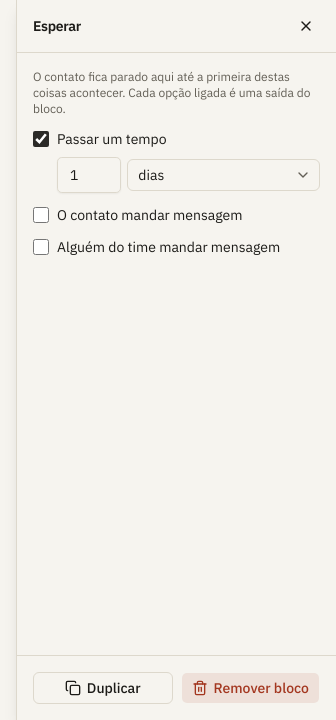
Test case: B28-02 — bloco 'esperar' no editor › CA-B28-03: com só o tempo ligado, desligar o tempo não deixa e avisa
Click the checkbox labelled "Passar um tempo": (41,139) [33, 131, 49, 147]
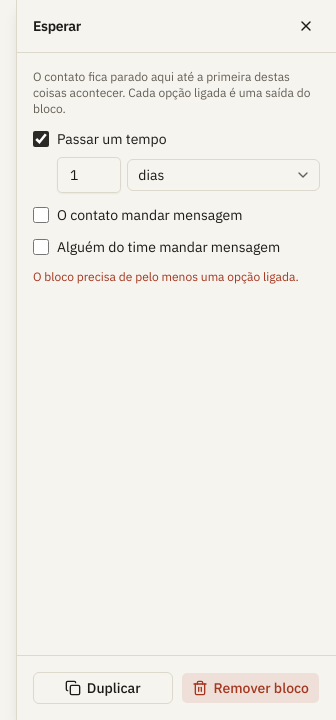
Now the message shows "O bloco precisa de pelo menos uma opção ligada", box [33, 269, 296, 284]
